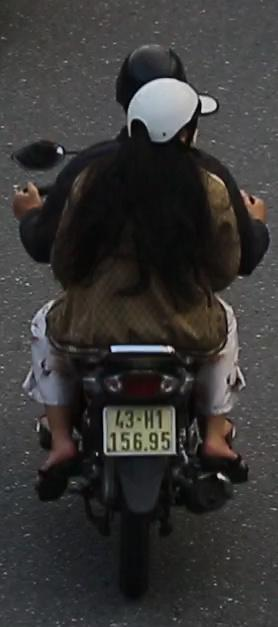LP: (100, 397, 181, 459)
helmet: (134, 77, 201, 184), (112, 40, 181, 108)
